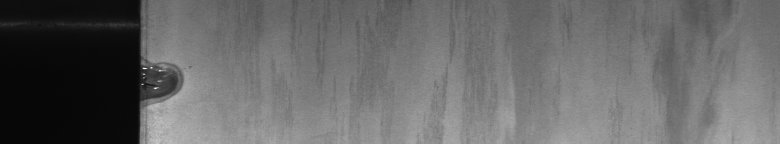hb: (152, 59, 192, 109)
